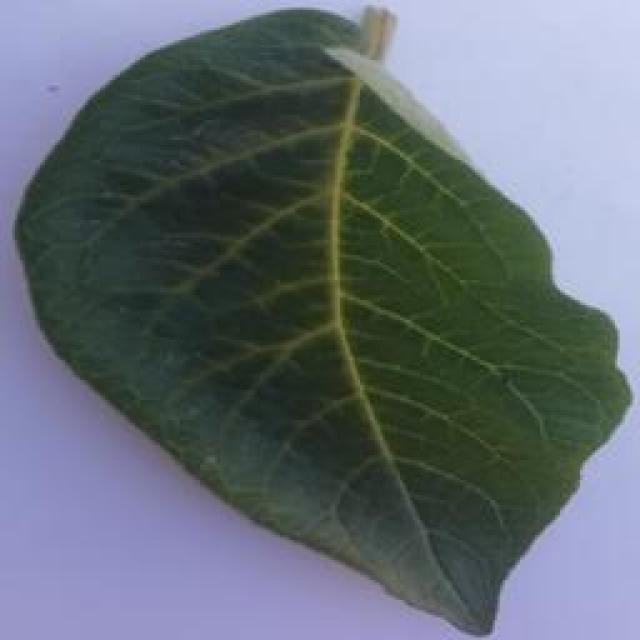Potato_Healthy: (12, 10, 620, 634)
